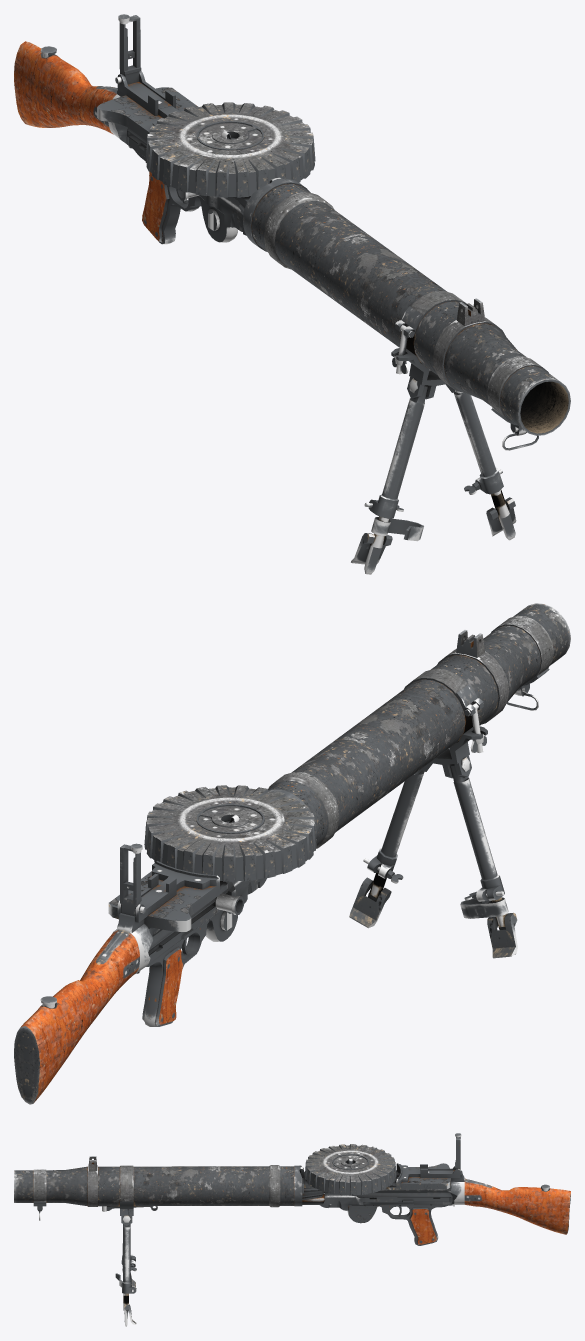
File: LewisMk1.fbx
3 views of the same model, one above another, from view 1: azimuth 30°, elevation 25°; view 2: azimuth 150°, elevation 25°; view 3: azimuth 270°, elevation 25° (orthographic). The views are drawn at different scales.
Visible parts, largest first — view 1: MK1, magazine, bipod, aim; view 2: MK1, magazine, bipod, aim; view 3: MK1, magazine, bipod, aim.
Part boxes in pixels (bbox=[...]): MK1: bbox=[14, 41, 570, 450]; magazine: bbox=[145, 102, 315, 197]; bipod: bbox=[351, 291, 516, 574]; aim: bbox=[115, 14, 175, 115]; MK1: bbox=[14, 603, 570, 1104]; magazine: bbox=[144, 785, 316, 881]; bipod: bbox=[349, 668, 517, 958]; aim: bbox=[117, 843, 176, 922]; MK1: bbox=[14, 1156, 570, 1245]; magazine: bbox=[305, 1144, 396, 1195]; bipod: bbox=[115, 1165, 136, 1326]; aim: bbox=[420, 1133, 461, 1178].
Size of the model in its own units: 23.89 by 44.21 by 130.
